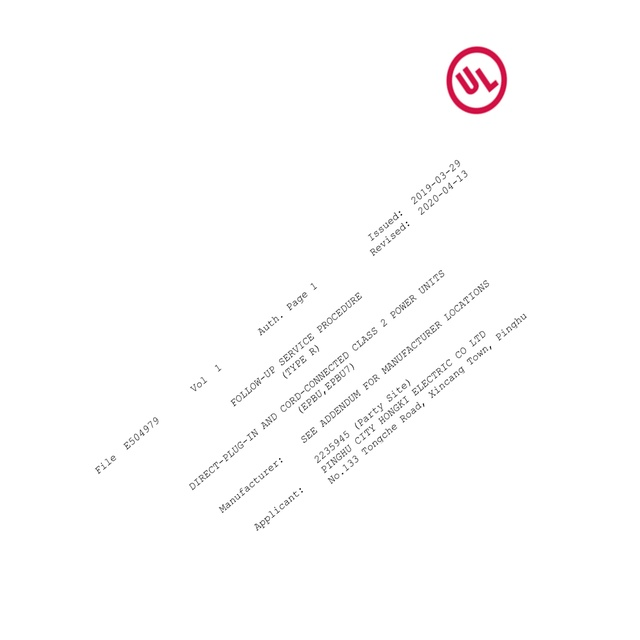ul: (446, 43, 508, 114)
